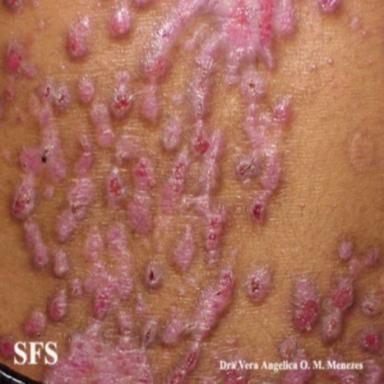Epidermolysis-Bullosa-Pruriginosa: (11, 0, 296, 383), (292, 237, 380, 343), (345, 128, 376, 171), (5, 40, 37, 81), (67, 16, 91, 58), (108, 0, 132, 37), (360, 294, 383, 317), (361, 328, 379, 352), (318, 0, 340, 14), (4, 0, 23, 12), (4, 85, 15, 101), (132, 0, 153, 7)
